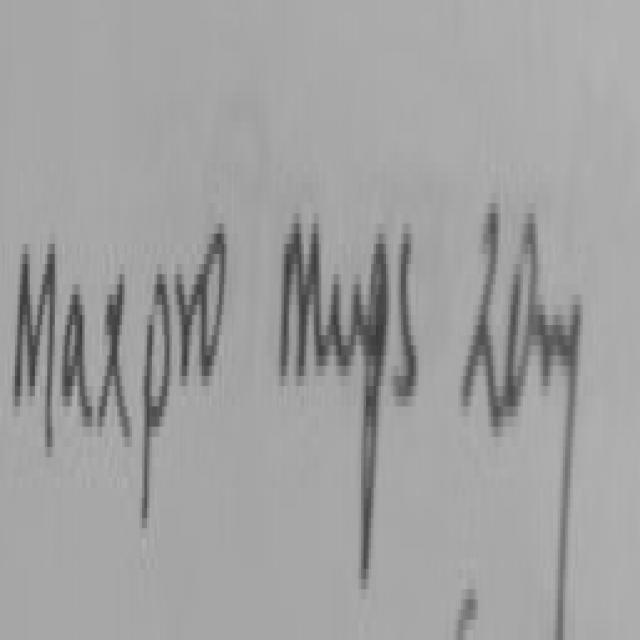0: (503, 213, 538, 411)
2: (462, 210, 514, 429)
M: (15, 249, 55, 442), (278, 223, 321, 382)
a: (62, 295, 95, 423)
g: (553, 305, 581, 635)
n: (532, 310, 569, 403)
o: (201, 229, 227, 381)
p: (363, 238, 391, 600), (142, 262, 174, 536)
r: (177, 269, 203, 376)
s: (396, 233, 419, 408)
u: (329, 273, 371, 375)
x: (98, 260, 133, 444)
